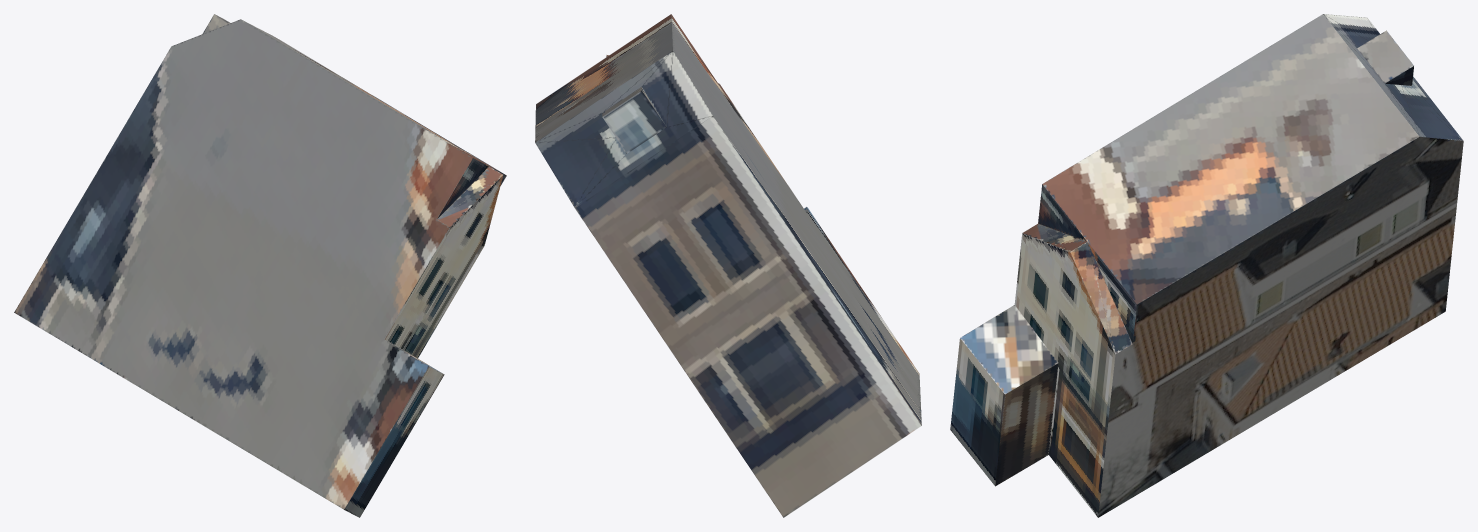
3 views of the same model, side by side, from view 1: azimuth 30°, elevation 25°; view 2: azimuth 150°, elevation 25°; view 3: azimuth 270°, elevation 25° (orthographic). The views are drawn at different scales.
Visible parts, largest first — view 1: BAG_0599100000650091 (×6); view 2: BAG_0599100000650091 (×5); view 3: BAG_0599100000650091 (×6).
Boxes of the visible parts, <box> form: BAG_0599100000650091 (×6): <box>14,14,506,517</box>; BAG_0599100000650091 (×5): <box>535,14,921,517</box>; BAG_0599100000650091 (×6): <box>950,14,1463,517</box>.
Bounding box in the file's own units: 14.81 × 14.46 × 13.36.
1 material, 1 textured.
